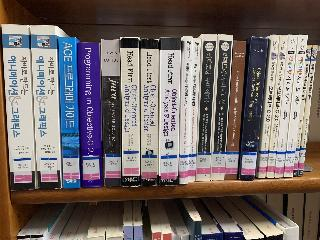book-spine: (2, 23, 35, 191), (31, 24, 61, 189), (237, 37, 269, 181), (77, 42, 102, 187), (284, 34, 308, 178), (275, 34, 298, 178), (159, 37, 181, 187), (195, 34, 217, 182), (210, 34, 232, 181), (58, 37, 79, 188), (224, 40, 246, 181), (101, 39, 122, 186), (267, 34, 288, 178), (120, 37, 140, 187), (139, 39, 159, 186), (259, 34, 279, 179), (292, 44, 312, 177), (298, 45, 317, 176), (179, 36, 193, 185), (188, 38, 201, 182)
